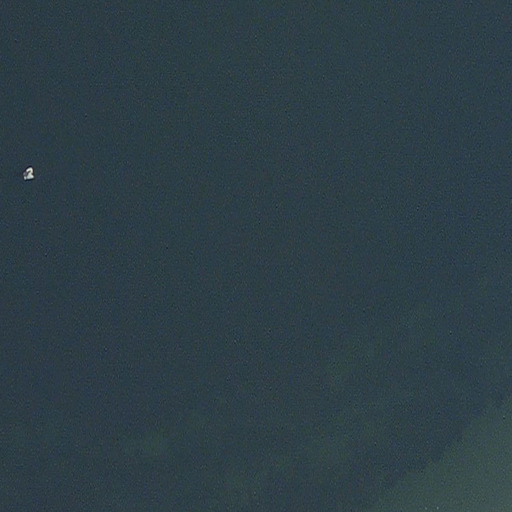ship: (22, 166, 35, 184)
